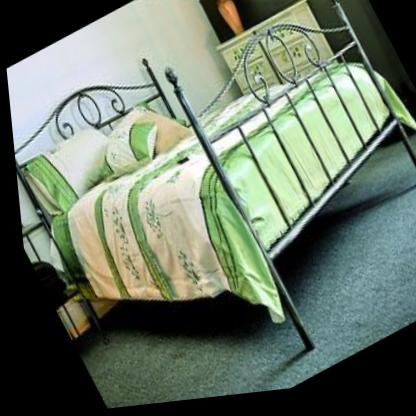Bed: (11, 15, 415, 331)
